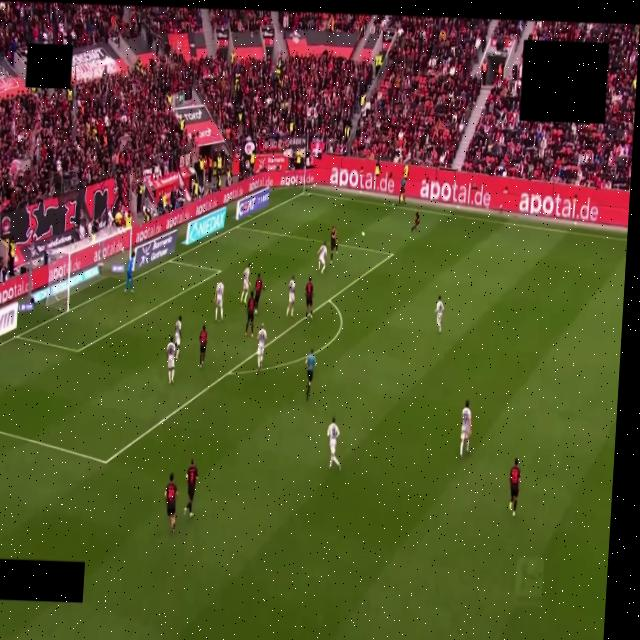ball: (362, 231, 365, 237)
player: (184, 459, 198, 518), (164, 473, 177, 532), (327, 418, 340, 469), (509, 458, 520, 516), (460, 400, 471, 457), (257, 324, 267, 370), (240, 263, 251, 304), (166, 337, 175, 383), (246, 292, 255, 337), (125, 252, 135, 292), (254, 274, 264, 313), (215, 281, 224, 321), (174, 316, 182, 359), (305, 276, 313, 318), (199, 325, 207, 367), (435, 296, 444, 333), (287, 276, 295, 316), (318, 242, 327, 274), (330, 227, 337, 264), (411, 210, 419, 232)
referee: (306, 348, 316, 401)
